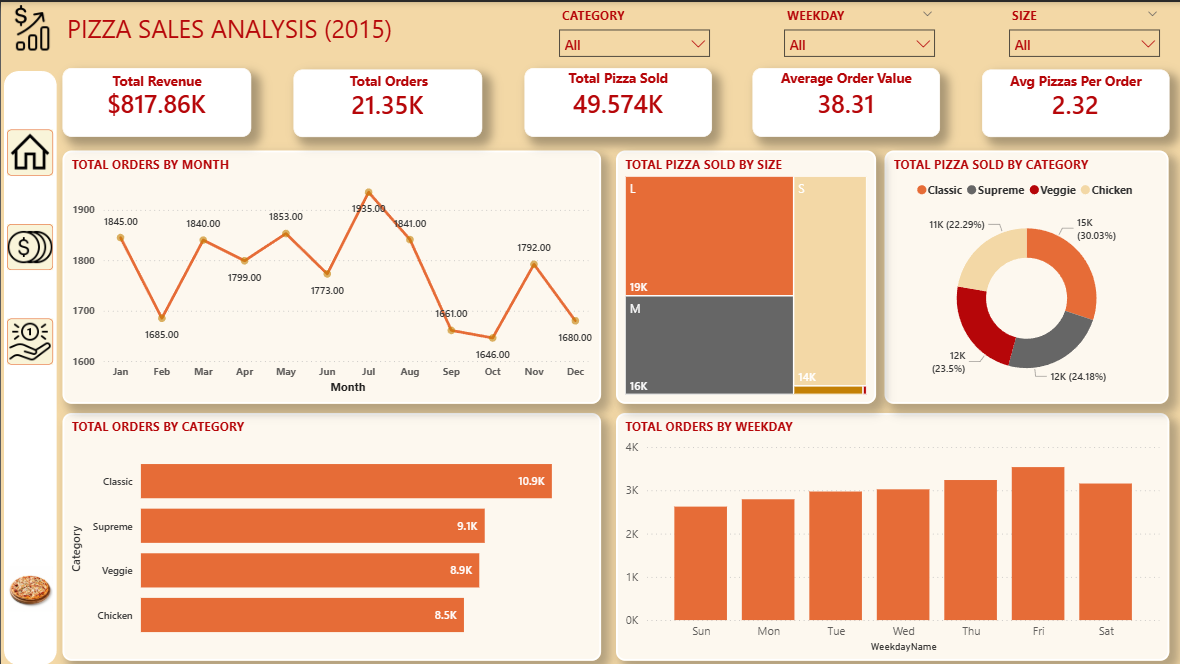

This screenshot's page, from the dashboard's own definition file:
{"tool":"powerbi","page":{"name":"Sales_Analysis_Page","canvas":[1280,720],"ordinal":0},"visuals":[{"type":"clusteredBarChart","title":"TOTAL ORDERS BY CATEGORY","fields":{"Category":["pizza_types.category"],"Y":["pizzas.Total Orders"]},"box":[67.5,446.1,584,268.5],"z":0},{"type":"cardVisual","title":"Total Revenue","fields":{"Data":["pizzas.Average Order Value"]},"box":[815.3,71.6,203.3,74.8],"z":1000},{"type":"clusteredColumnChart","title":"TOTAL ORDERS BY WEEKDAY","fields":{"Category":["Dates.WeekdayName"],"Y":["pizzas.Total Orders"]},"box":[666.2,446.1,600.2,268.5],"z":2000},{"type":"cardVisual","title":"Average Cost","fields":{"Data":["pizzas.Average Cost"]},"box":[1063.8,73.2,203.3,73.2],"z":3000},{"type":"donutChart","title":"TOTAL PIZZA  SOLD BY CATEGORY","fields":{"Category":["pizza_types.category"],"Y":["pizzas.Total Pizza Sold"]},"box":[958.2,161.4,308.2,274.4],"z":4000},{"type":"lineChart","title":"TOTAL ORDERS BY MONTH","fields":{"Category":["Dates.MonthName"],"Y":["pizzas.Total Orders"]},"box":[67.5,161.4,584,274.4],"z":5000},{"type":"treemap","title":"TOTAL PIZZA SOLD BY SIZE","fields":{"Group":["pizzas.size"],"Values":["pizzas.Total Pizza Sold"]},"box":[666.2,161.4,281.7,274.4],"z":6000},{"type":"textbox","box":[67.5,4.4,507.7,51.4],"z":7000},{"type":"cardVisual","fields":{"Data":["pizzas.Total Orders"]},"box":[316.8,73.2,204.9,73.2],"z":8000},{"type":"textbox","box":[826.3,66.7,180.5,39],"z":9000},{"type":"textbox","box":[1078.4,69.9,174,37.4],"z":10000},{"type":"textbox","box":[341.6,69.9,157.8,37.4],"z":11000},{"type":"cardVisual","fields":{"Data":["pizzas.Total Revenue"]},"box":[66.7,71.6,204.9,74.8],"z":12000},{"type":"textbox","box":[89.5,69.9,159.4,37.4],"z":13000},{"type":"slicer","fields":{"Values":["pizza_types.category"]},"box":[595.8,0,183.4,66],"z":14000},{"type":"slicer","fields":{"Values":["Dates.WeekdayName"]},"box":[839.4,0,183.4,66],"z":15000},{"type":"slicer","fields":{"Values":["pizzas.size"]},"box":[1083,0,183.4,66],"z":16000},{"type":"image","box":[0,2.9,67.5,52.8],"z":17000},{"type":"shape","box":[2.9,74.8,57.2,644.2],"z":18000},{"type":"image","box":[6.1,137.8,50,50],"z":19000},{"type":"image","box":[6.1,240.8,50,50],"z":20000},{"type":"image","box":[6.1,343.7,50,50],"z":21000},{"type":"image","box":[5.9,611.9,49.9,49.9],"z":22000},{"type":"cardVisual","title":"Total Revenue","fields":{"Data":["pizzas.Total Pizza Sold"]},"box":[566.9,71.6,203.3,74.8],"z":23000},{"type":"textbox","box":[579,66.7,180.5,39],"z":24000}]}

Visuals, with their boxes on the page's 1280x720 design canvas (x1, y1, x2, y2). These are canvas units, not pixel positions in the 1180x664 screenshot, which may show the page scaled, cropped or inside an application window:
"TOTAL ORDERS BY CATEGORY" clusteredBarChart: locate(68, 446, 652, 715)
"Total Revenue" cardVisual: locate(815, 72, 1019, 146)
"TOTAL ORDERS BY WEEKDAY" clusteredColumnChart: locate(666, 446, 1266, 715)
"Average Cost" cardVisual: locate(1064, 73, 1267, 146)
"TOTAL PIZZA  SOLD BY CATEGORY" donutChart: locate(958, 161, 1266, 436)
"TOTAL ORDERS BY MONTH" lineChart: locate(68, 161, 652, 436)
"TOTAL PIZZA SOLD BY SIZE" treemap: locate(666, 161, 948, 436)
textbox: locate(68, 4, 575, 56)
cardVisual - pizzas.Total Orders: locate(317, 73, 522, 146)
textbox: locate(826, 67, 1007, 106)
textbox: locate(1078, 70, 1252, 107)
textbox: locate(342, 70, 499, 107)
cardVisual - pizzas.Total Revenue: locate(67, 72, 272, 146)
textbox: locate(90, 70, 249, 107)
slicer - pizza_types.category: locate(596, 0, 779, 66)
slicer - Dates.WeekdayName: locate(839, 0, 1023, 66)
slicer - pizzas.size: locate(1083, 0, 1266, 66)
image: locate(0, 3, 68, 56)
shape: locate(3, 75, 60, 719)
image: locate(6, 138, 56, 188)
image: locate(6, 241, 56, 291)
image: locate(6, 344, 56, 394)
image: locate(6, 612, 56, 662)
"Total Revenue" cardVisual: locate(567, 72, 770, 146)
textbox: locate(579, 67, 760, 106)
